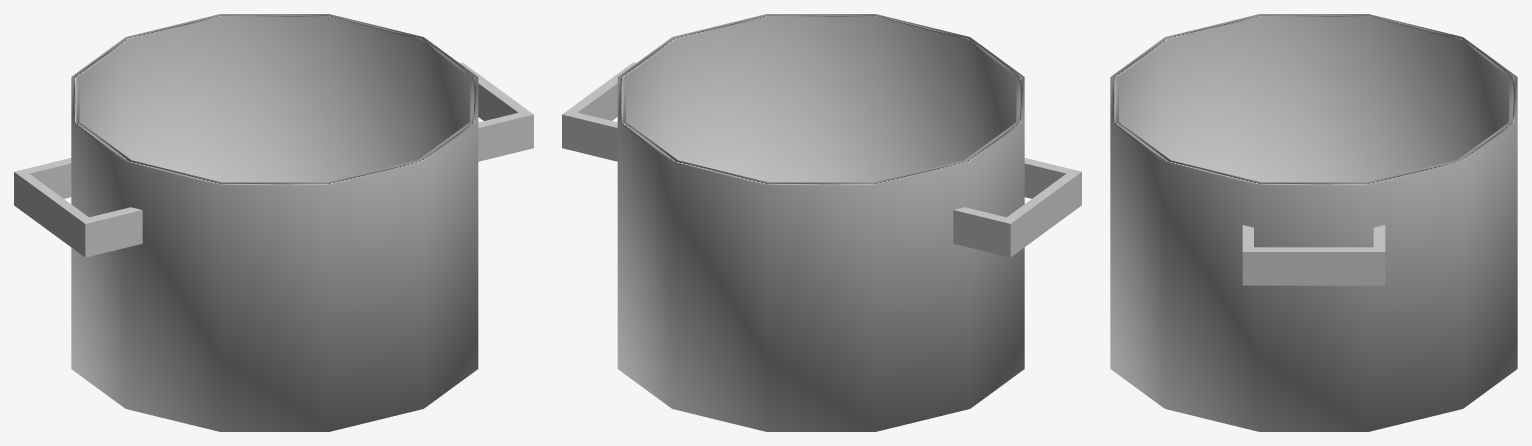
File: cookingPot.fbx
The picture shows the model from 3 angles, left to right: view 1: azimuth 30°, elevation 25°; view 2: azimuth 150°, elevation 25°; view 3: azimuth 270°, elevation 25°; orthographic projection.
Parts seen in each view (by area): view 1: cookingPot; view 2: cookingPot; view 3: cookingPot.
Part boxes in pixels (x1,y1,x2,y2): cookingPot: (14,14,533,431); cookingPot: (562,14,1081,431); cookingPot: (1110,14,1517,431).
Bounding box in the file's own units: 0.6052 × 0.3171 × 0.4757.
1 material, 1 textured.
